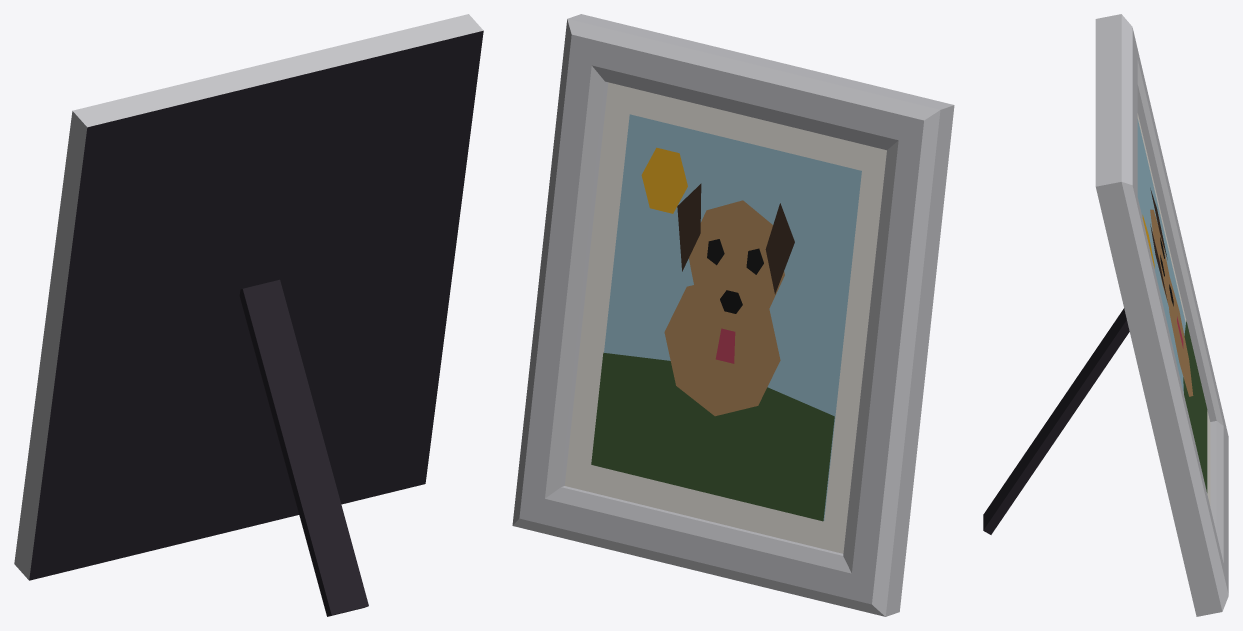
File: photo_frame.glb
The picture shows the model from 3 angles, left to right: view 1: azimuth 30°, elevation 25°; view 2: azimuth 150°, elevation 25°; view 3: azimuth 270°, elevation 25°; orthographic projection. The views are drawn at different scales.
Visible parts, largest first — view 1: photo_frame; view 2: photo_frame; view 3: photo_frame.
Boxes of the visible parts, bbox=[...] form: photo_frame: bbox=[14, 14, 483, 616]; photo_frame: bbox=[512, 14, 954, 616]; photo_frame: bbox=[983, 14, 1228, 616].
Bounding box in the file's own units: 0.18 × 0.2177 × 0.1114.
Materials: 1 (1 with a texture image).
